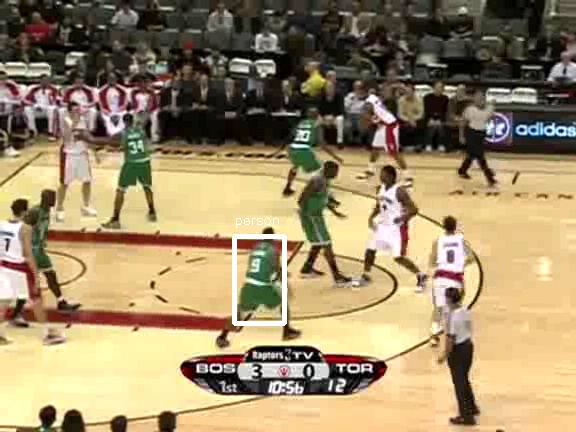person: (246, 238, 280, 319), (245, 238, 279, 319), (247, 238, 281, 319), (246, 237, 280, 318), (246, 239, 280, 320)
target_negative: (113, 115, 282, 219), (387, 383, 451, 417), (379, 356, 516, 369), (495, 71, 567, 94), (523, 17, 534, 79), (476, 370, 482, 427)
